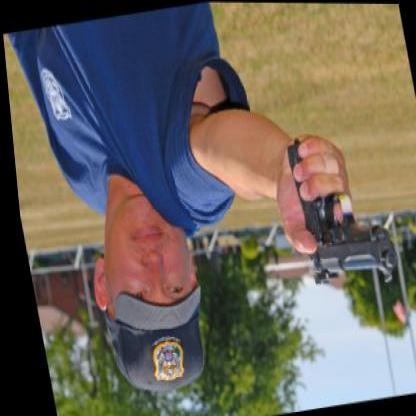pistol: (280, 124, 398, 292)
